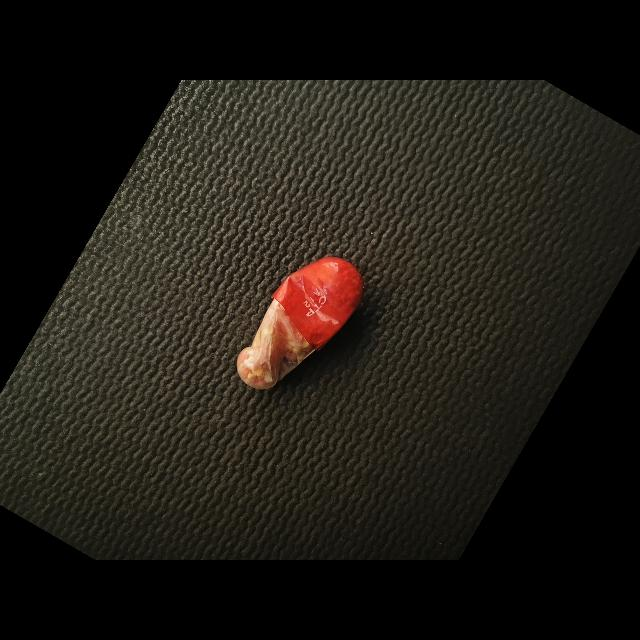Defective Capsule: (237, 257, 364, 389)
